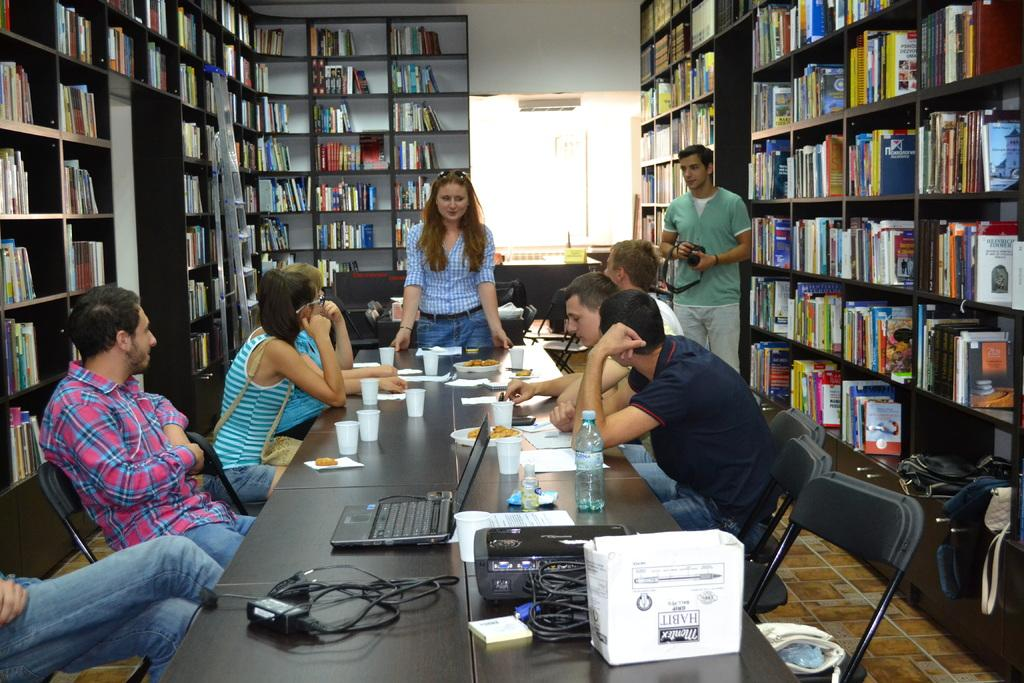Chair: (743, 470, 924, 682)
Laptop: (329, 413, 491, 547)
